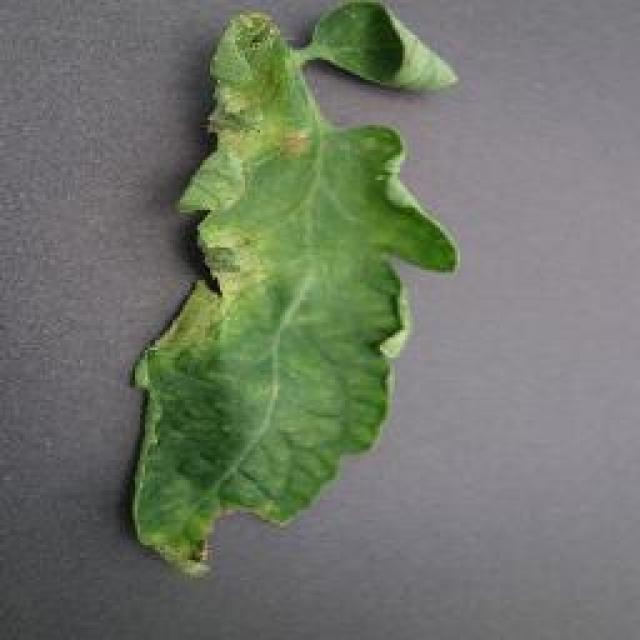Tomato Late Blight: (148, 27, 305, 568)
